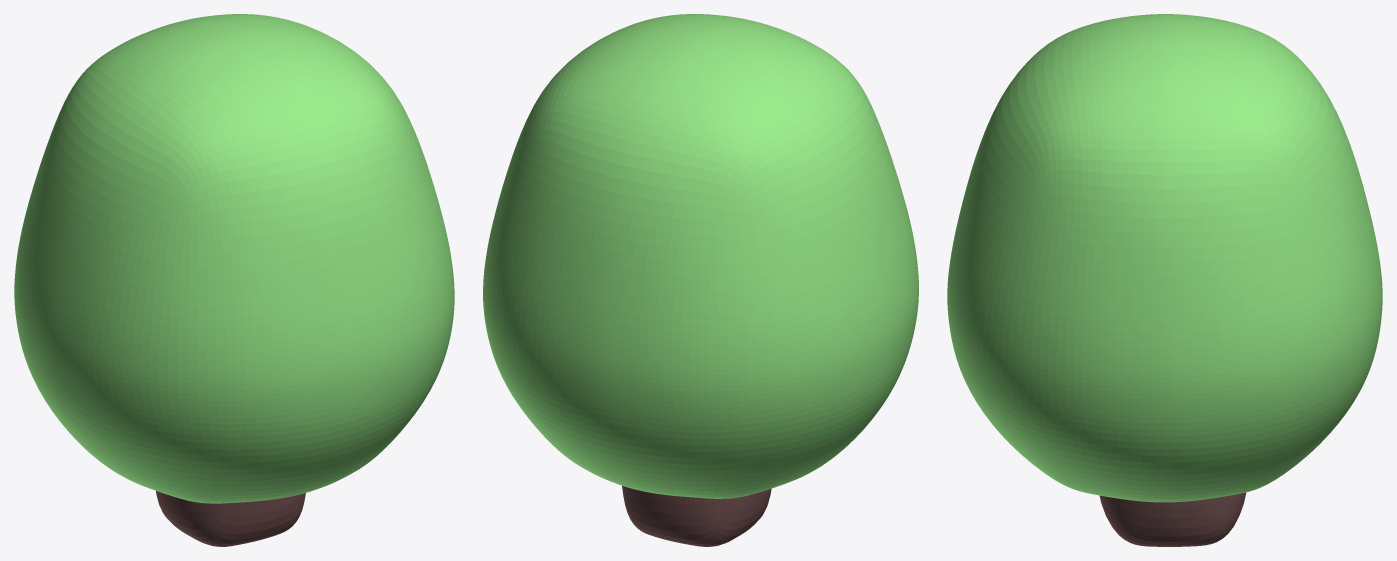
Rendered from greentree.fbx.
3 views of the same model, side by side, from view 1: azimuth 30°, elevation 25°; view 2: azimuth 150°, elevation 25°; view 3: azimuth 270°, elevation 25° (orthographic).
Visible parts, largest first — view 1: Roundcube, Roundcube.001; view 2: Roundcube, Roundcube.001; view 3: Roundcube, Roundcube.001.
Part boxes in pixels (x1,y1,x2,y2): Roundcube: [14, 14, 454, 503]; Roundcube.001: [156, 491, 305, 546]; Roundcube: [483, 14, 918, 498]; Roundcube.001: [622, 485, 771, 546]; Roundcube: [947, 14, 1382, 502]; Roundcube.001: [1099, 492, 1246, 546].
Size of the model in its own units: 199 by 249 by 199.
